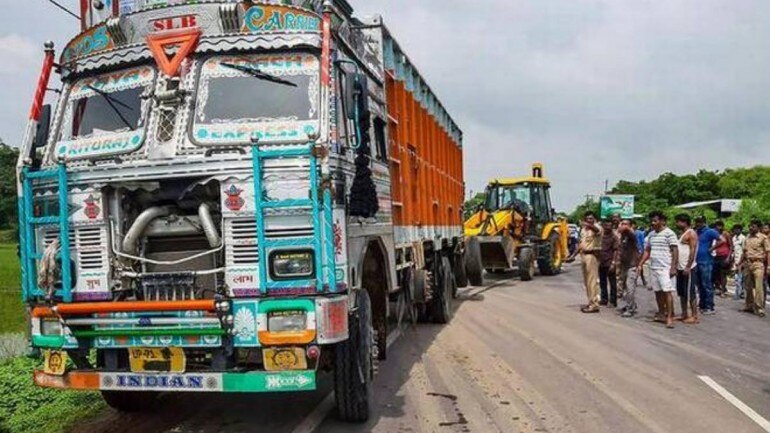Truck: (1, 1, 470, 427)
